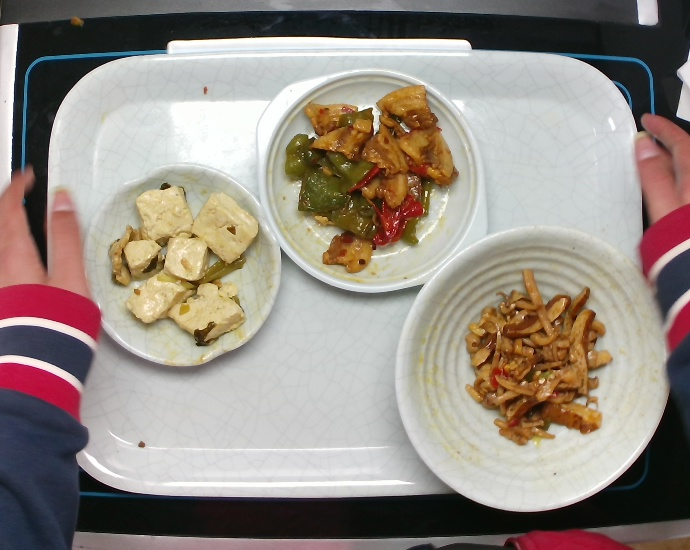JYsf-Ao_Yuan_Wan: (78, 157, 285, 373)
JYsf-Shuang_Er_Pan: (252, 59, 502, 300)
JYsf-Xiao_Tang_Wan: (382, 220, 675, 517)
